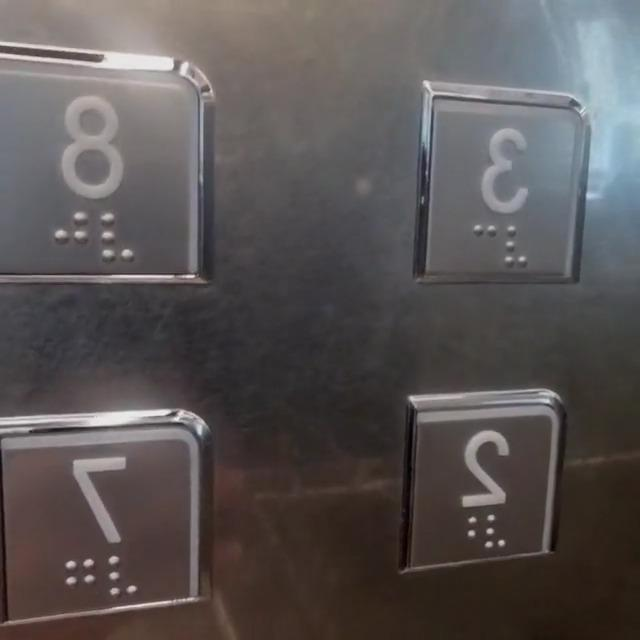button: (0, 67, 215, 284), (0, 415, 198, 628), (416, 98, 591, 283), (399, 394, 554, 574)
